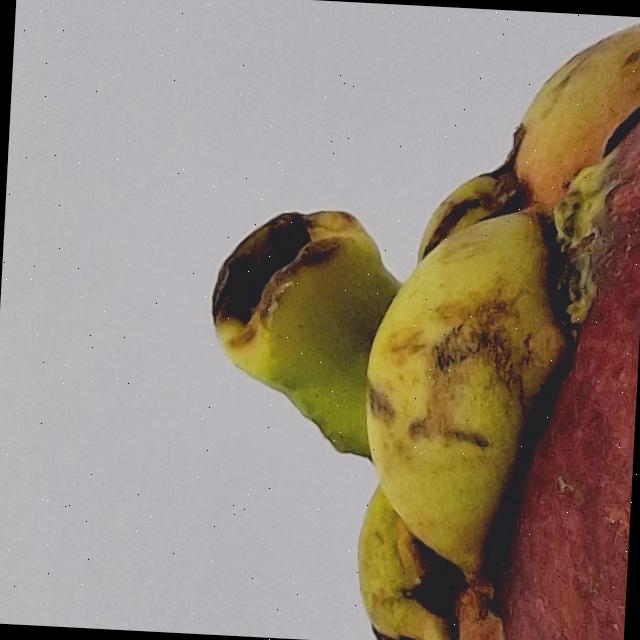mangosteen: (148, 0, 640, 640)
